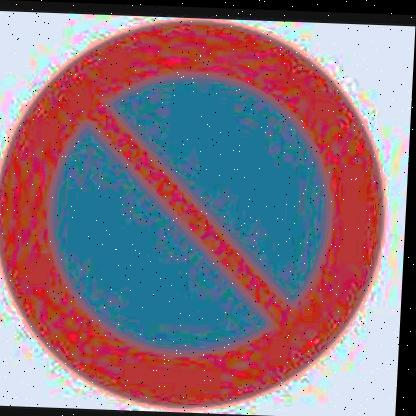No parking: (0, 8, 412, 412)
